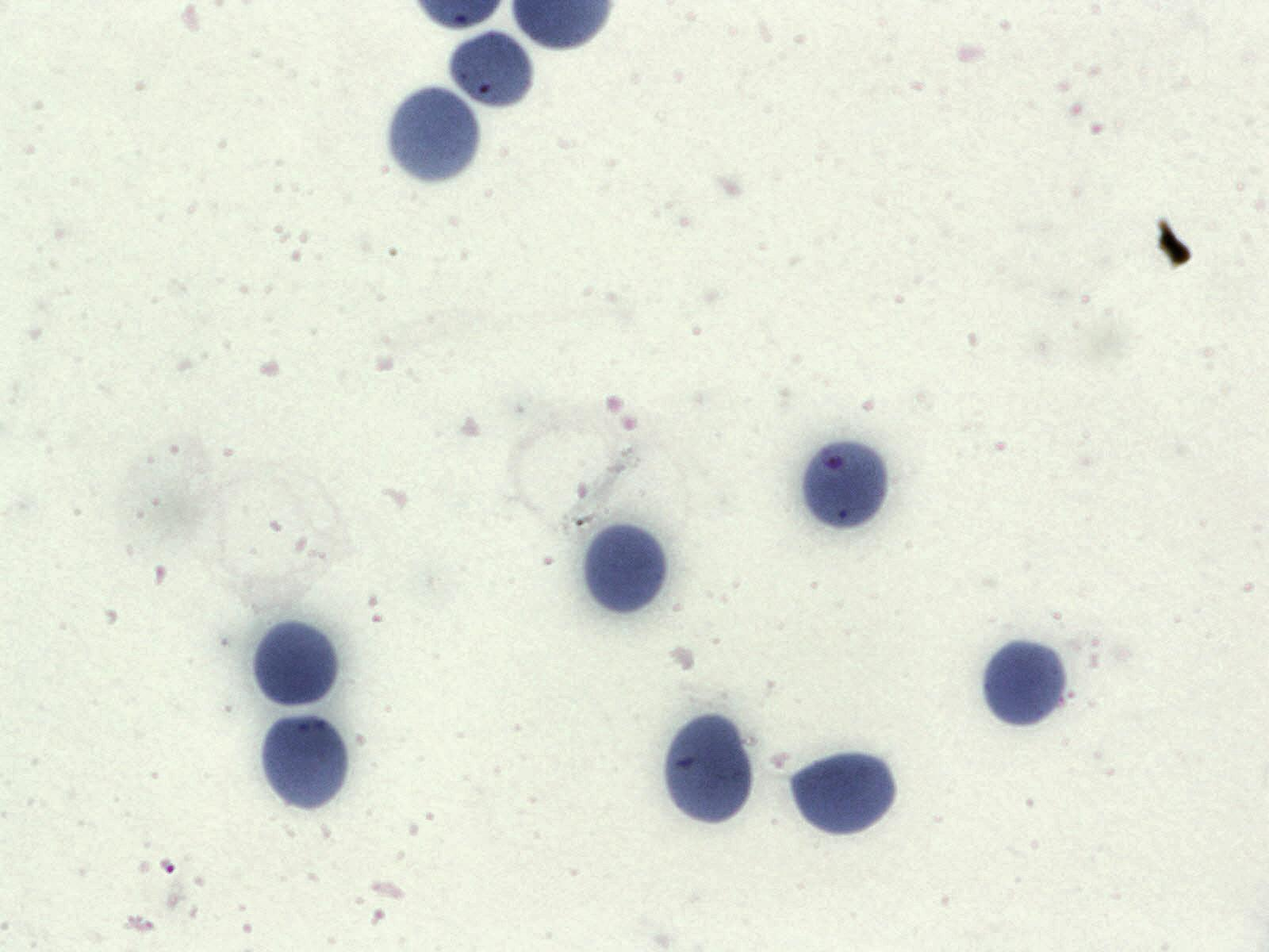Infected: (799, 440, 891, 532)
Uninfected: (661, 712, 754, 828), (386, 82, 482, 186), (789, 748, 897, 837), (259, 708, 351, 812), (580, 520, 670, 617), (980, 635, 1071, 729), (251, 616, 342, 710), (447, 28, 536, 115)
